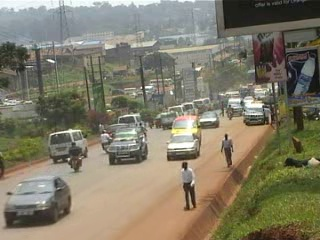Car: (2, 174, 72, 225), (104, 128, 150, 167), (163, 130, 201, 160), (194, 110, 221, 129), (152, 111, 164, 128)
Motorcycle: (64, 138, 87, 172), (96, 124, 114, 153), (225, 102, 237, 122), (144, 111, 155, 130)
